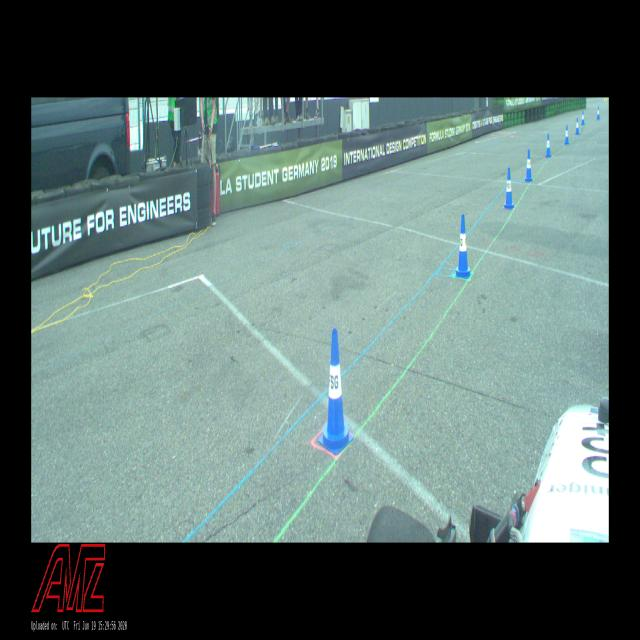blue_cone: (318, 328, 354, 453), (456, 214, 471, 278), (504, 168, 514, 208), (524, 149, 532, 181), (545, 134, 551, 157), (564, 125, 568, 144), (575, 118, 579, 134), (596, 106, 600, 120), (581, 110, 584, 124)
